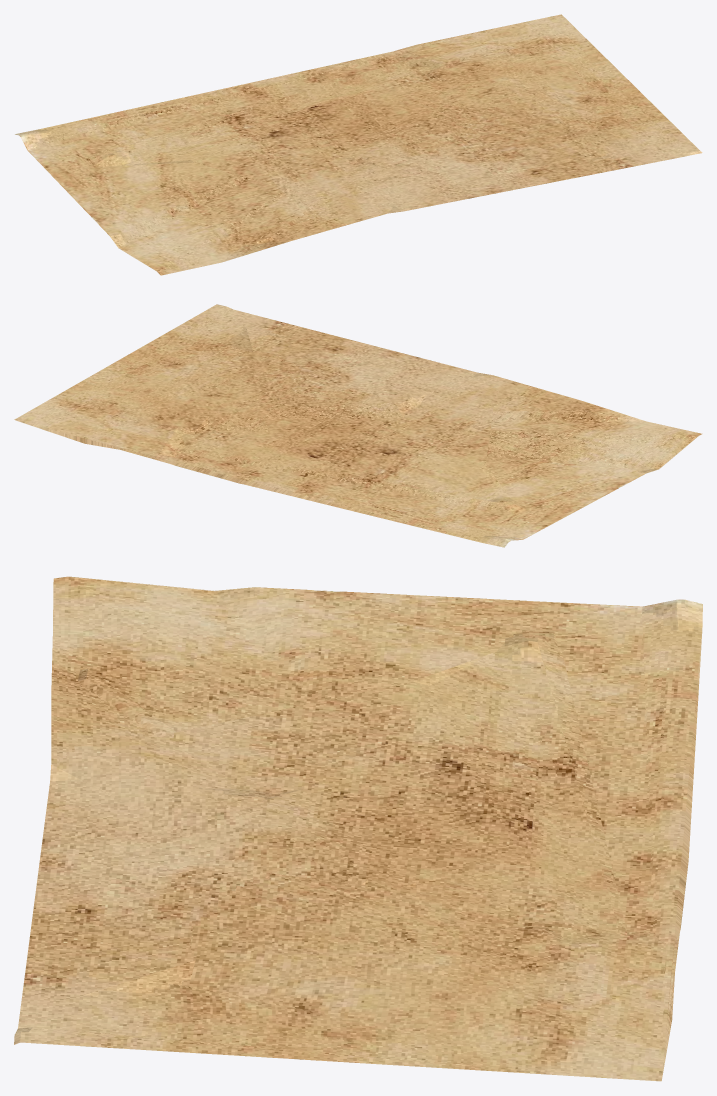
The model's file is Entry.fbx.
The picture shows the model from 3 angles, top to bottom: view 1: azimuth 30°, elevation 25°; view 2: azimuth 150°, elevation 25°; view 3: azimuth 270°, elevation 25°; orthographic projection. The views are drawn at different scales.
Parts seen in each view (by area): view 1: Plane; view 2: Plane; view 3: Plane.
Boxes of the visible parts, bbox=[...] form: Plane: bbox=[15, 14, 702, 275]; Plane: bbox=[14, 304, 702, 547]; Plane: bbox=[14, 576, 702, 1081].
Bounding box in the file's own units: 381 × 16.92 × 221.
Materials: 1 (1 with a texture image).
